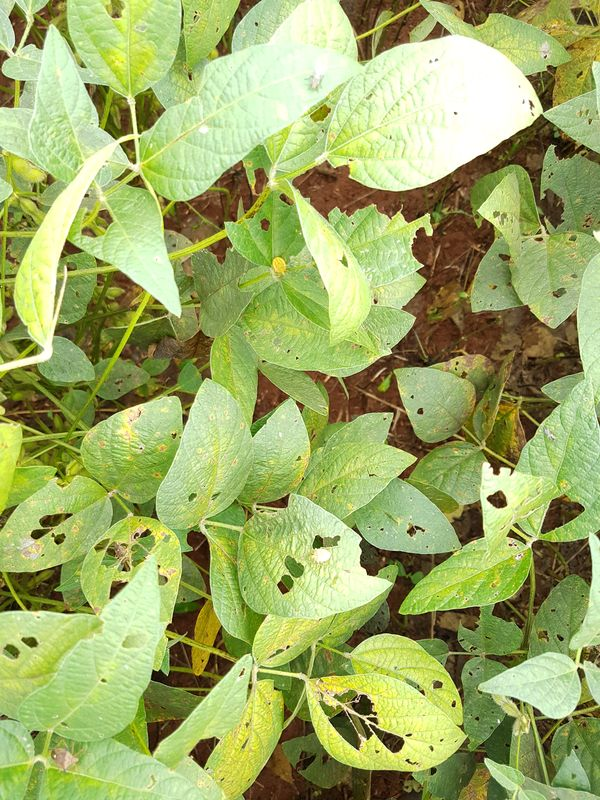Euschistus_heros_adulto: (46, 740, 86, 780)
Euschistus_heros_ninfa: (307, 545, 334, 569), (267, 254, 291, 280)
